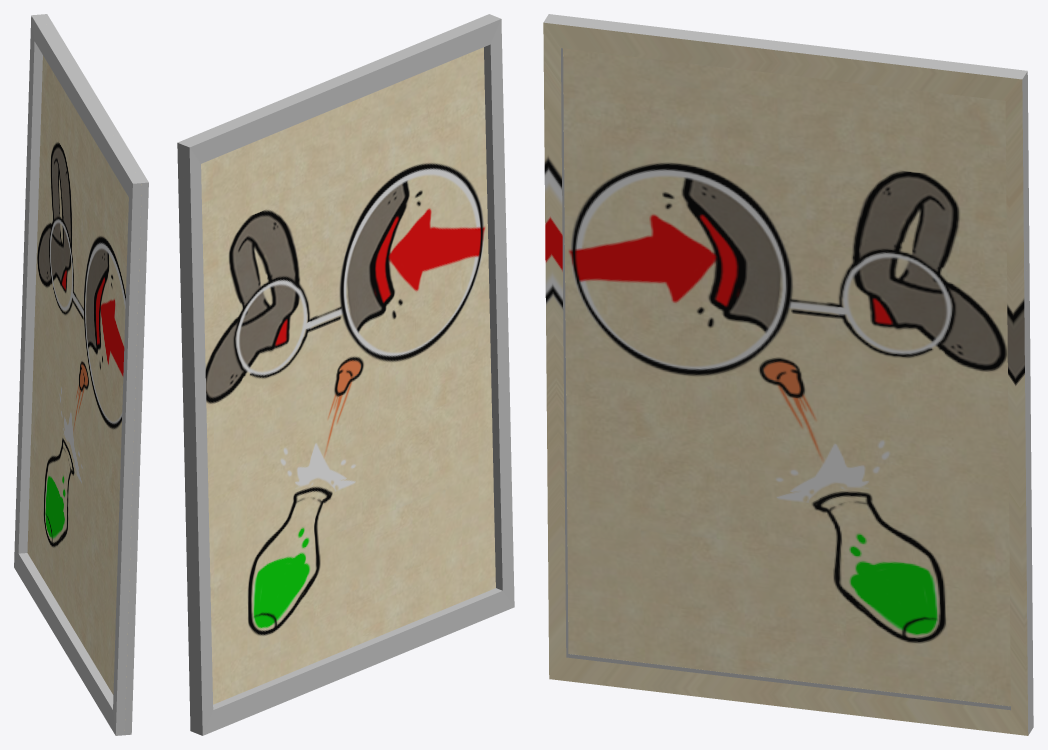
Rendered from InstructionsPopPotions.fbx.
3 views of the same model, side by side, from view 1: azimuth 30°, elevation 25°; view 2: azimuth 150°, elevation 25°; view 3: azimuth 270°, elevation 25° (orthographic). The views are drawn at different scales.
Parts seen in each view (by area): view 1: InstructionsSheet; view 2: InstructionsSheet; view 3: InstructionsSheet.
Part boxes in pixels (<box>): InstructionsSheet: <box>14,14,148,735</box>; InstructionsSheet: <box>177,14,514,735</box>; InstructionsSheet: <box>543,14,1033,735</box>.
Size of the model in its own units: 19.68 by 82.87 by 55.3.
